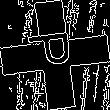P_E: (28, 34, 82, 76)
